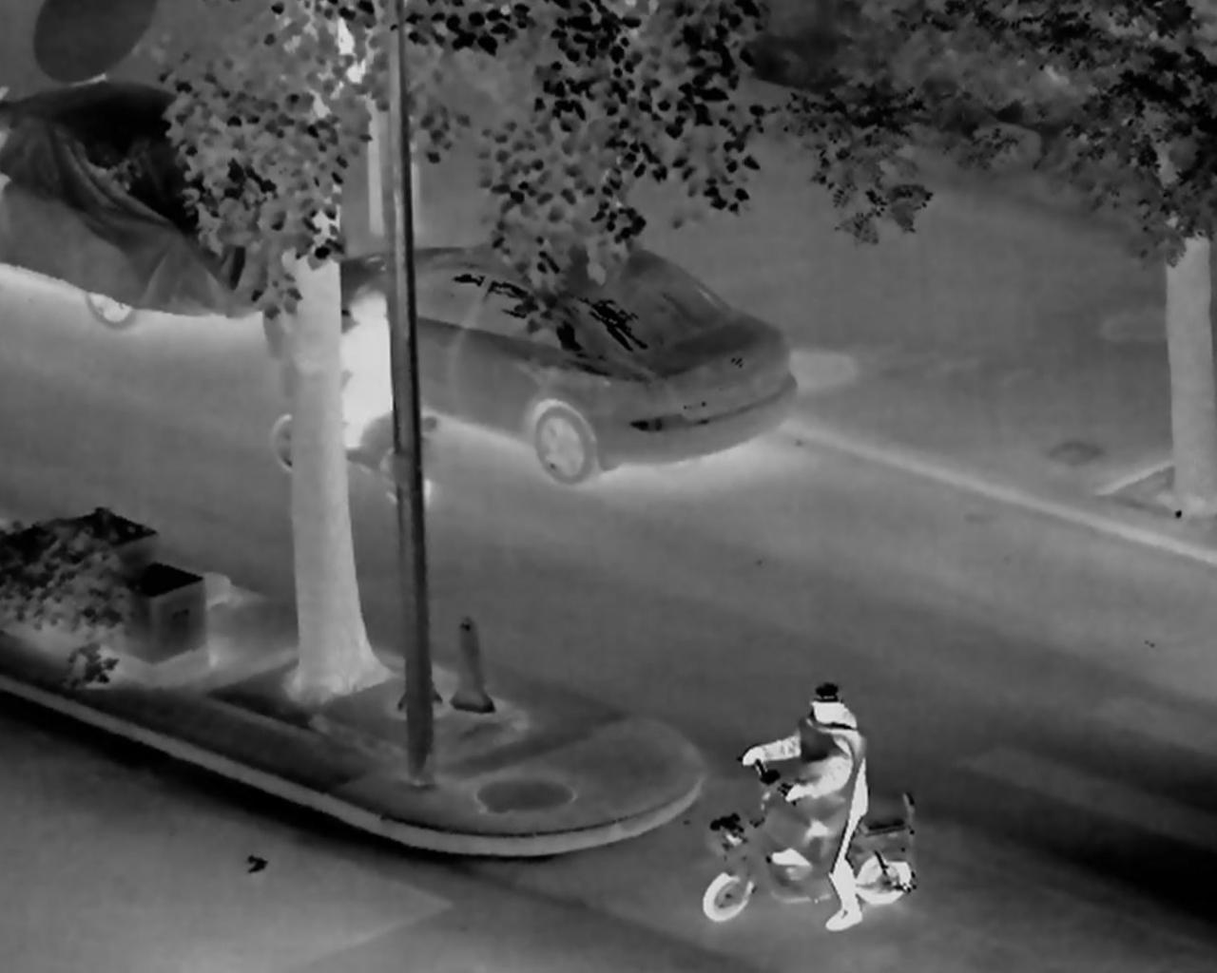person: (741, 681, 871, 931), (321, 286, 396, 461)
